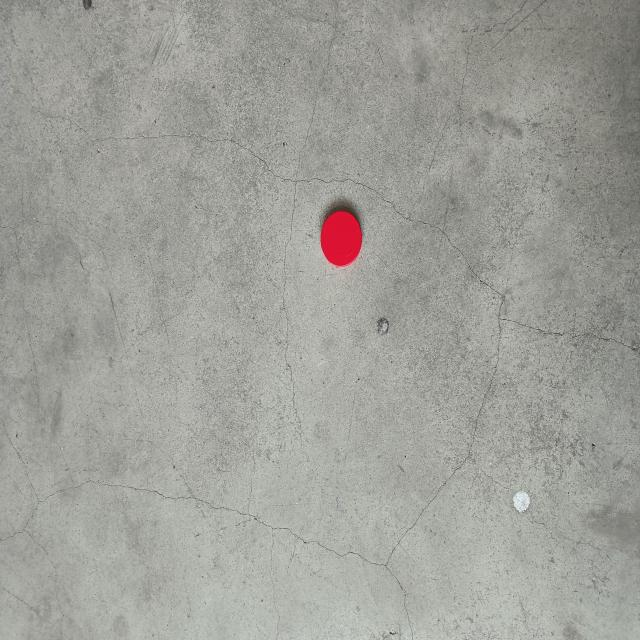chip: (318, 206, 364, 272)
